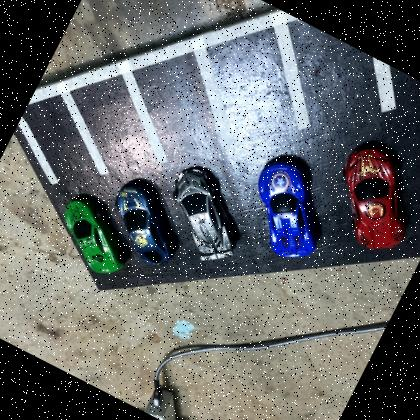Car: (313, 137, 420, 263), (231, 153, 344, 271), (148, 162, 262, 274), (95, 177, 195, 273), (46, 194, 143, 282)
